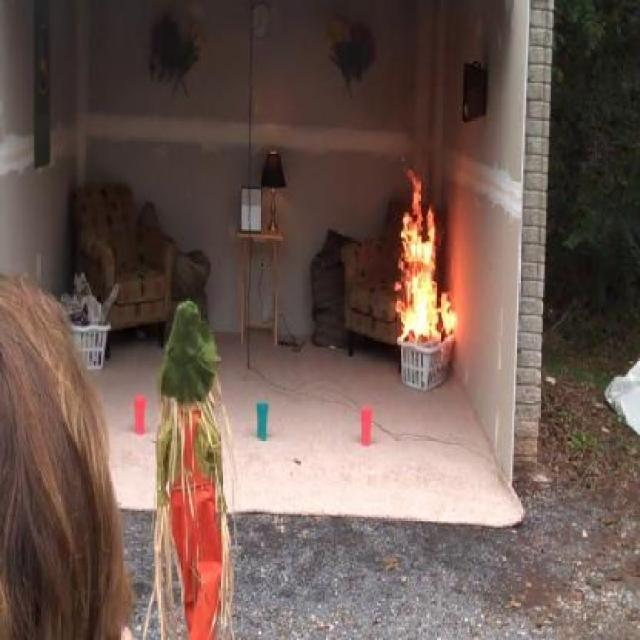fire: (376, 178, 469, 386)
